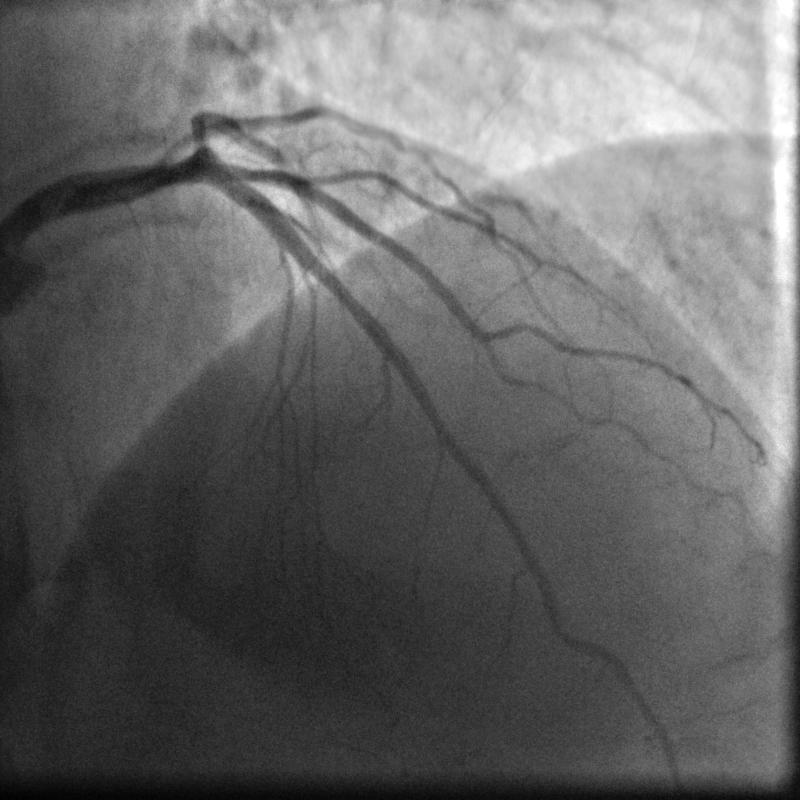Stenosis: (437, 397, 464, 472)
